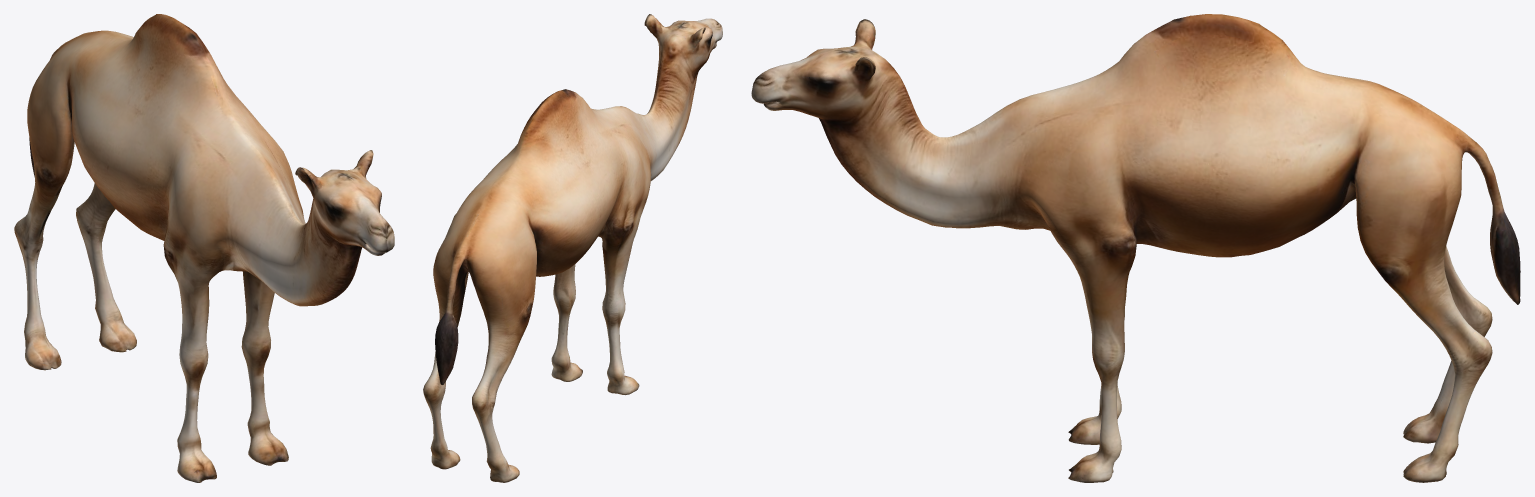
File: camel.glb
3 renders of one model, left to right at view 1: azimuth 30°, elevation 25°; view 2: azimuth 150°, elevation 25°; view 3: azimuth 270°, elevation 25°, orthographic. The views are drawn at different scales.
Bounding box in the file's own units: 0.4472 × 1.27 × 2.
Materials: 1 (1 with a texture image).
